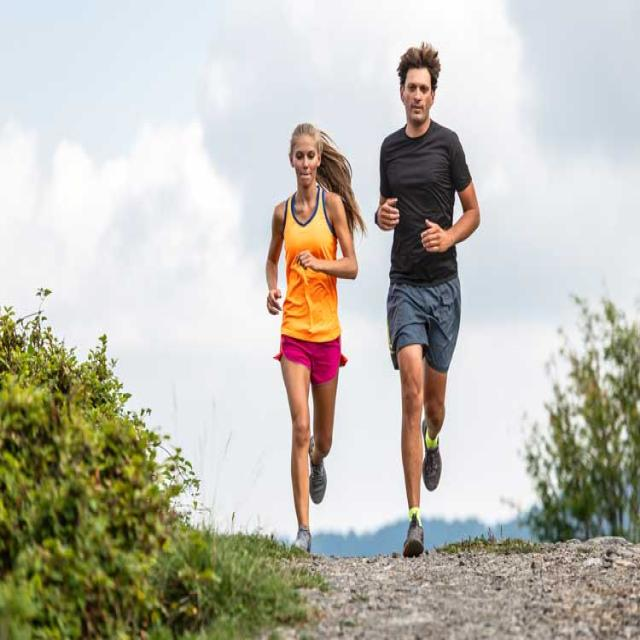Person: (376, 45, 480, 556), (266, 122, 366, 560)
